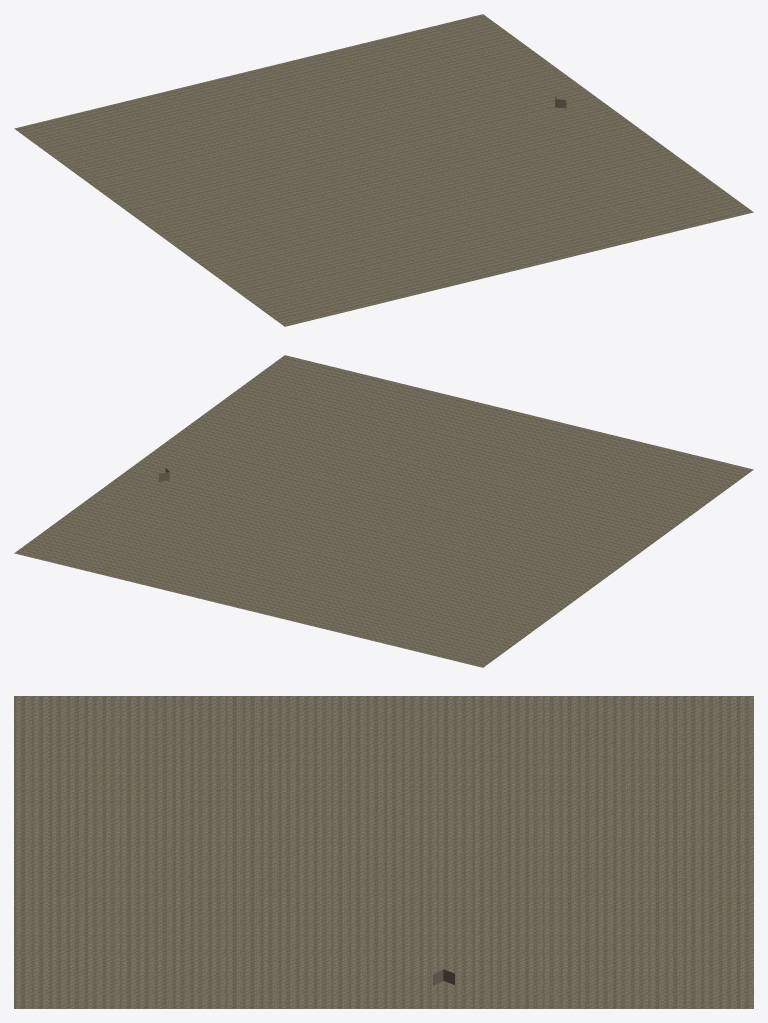
File: Ground.FBX
3 views of the same model, one above another, from view 1: azimuth 30°, elevation 25°; view 2: azimuth 150°, elevation 25°; view 3: azimuth 270°, elevation 25° (orthographic). The views are drawn at different scales.
Parts seen in each view (by area): view 1: Plane001; view 2: Plane001; view 3: Plane001.
Part boxes in pixels (x1,y1,x2,y2): Plane001: (14, 14, 753, 326); Plane001: (14, 355, 753, 667); Plane001: (14, 696, 753, 1008).
Bounding box in the file's own units: 11900 × 273 × 11900.
